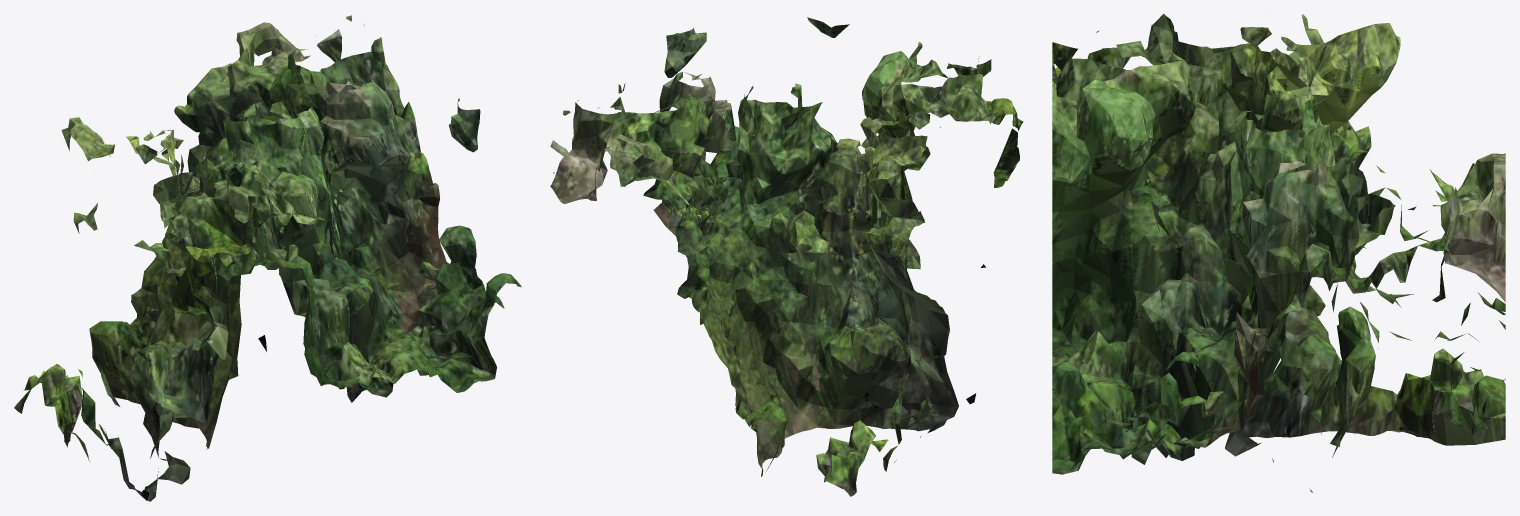
3 views of the same model, side by side, from view 1: azimuth 30°, elevation 25°; view 2: azimuth 150°, elevation 25°; view 3: azimuth 270°, elevation 25° (orthographic). The views are drawn at different scales.
Bounding box in the file's own units: 26.11 × 26.11 × 26.11.
8 materials, 8 textured.
